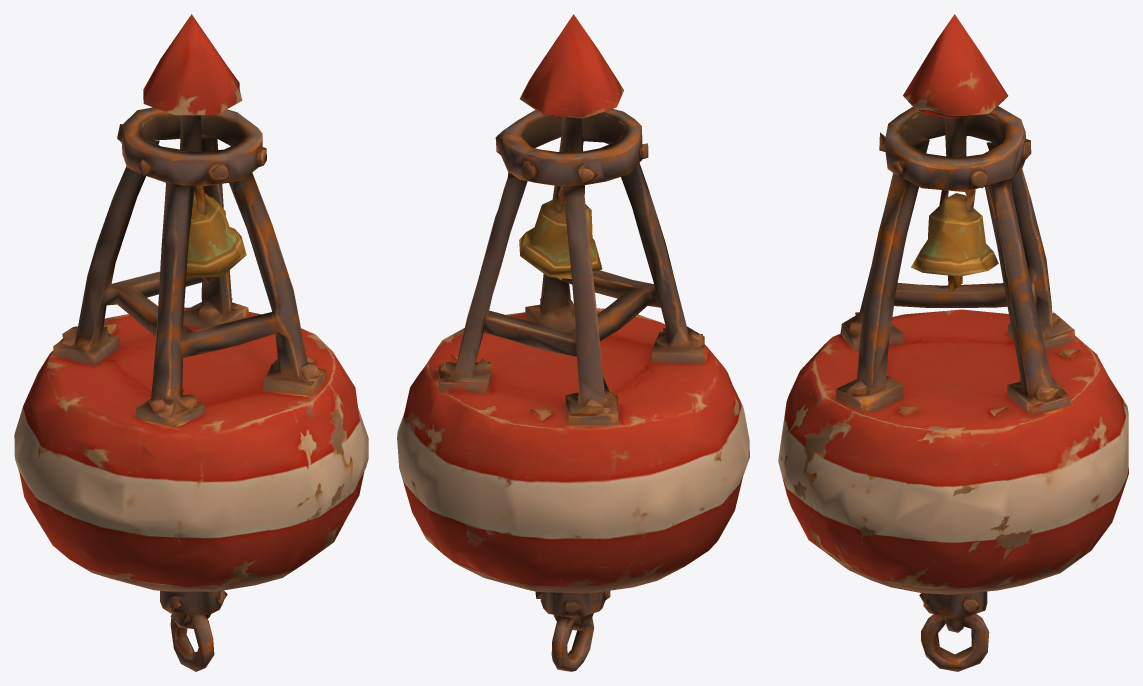
File: buoy.glb
The picture shows the model from 3 angles, left to right: view 1: azimuth 30°, elevation 25°; view 2: azimuth 150°, elevation 25°; view 3: azimuth 270°, elevation 25°; orthographic projection.
Visible parts, largest first — view 1: tripo_node_a5f241e8-c6dd-433f-a5eb-35dded0b09a1; view 2: tripo_node_a5f241e8-c6dd-433f-a5eb-35dded0b09a1; view 3: tripo_node_a5f241e8-c6dd-433f-a5eb-35dded0b09a1.
Boxes of the visible parts, left/top/right/bottom form: tripo_node_a5f241e8-c6dd-433f-a5eb-35dded0b09a1: left=14, top=14, right=368, bottom=671; tripo_node_a5f241e8-c6dd-433f-a5eb-35dded0b09a1: left=397, top=14, right=749, bottom=671; tripo_node_a5f241e8-c6dd-433f-a5eb-35dded0b09a1: left=778, top=14, right=1128, bottom=671.
Size of the model in its own units: 0.8727 by 1.8 by 0.8723.
Materials: 1 (1 with a texture image).
